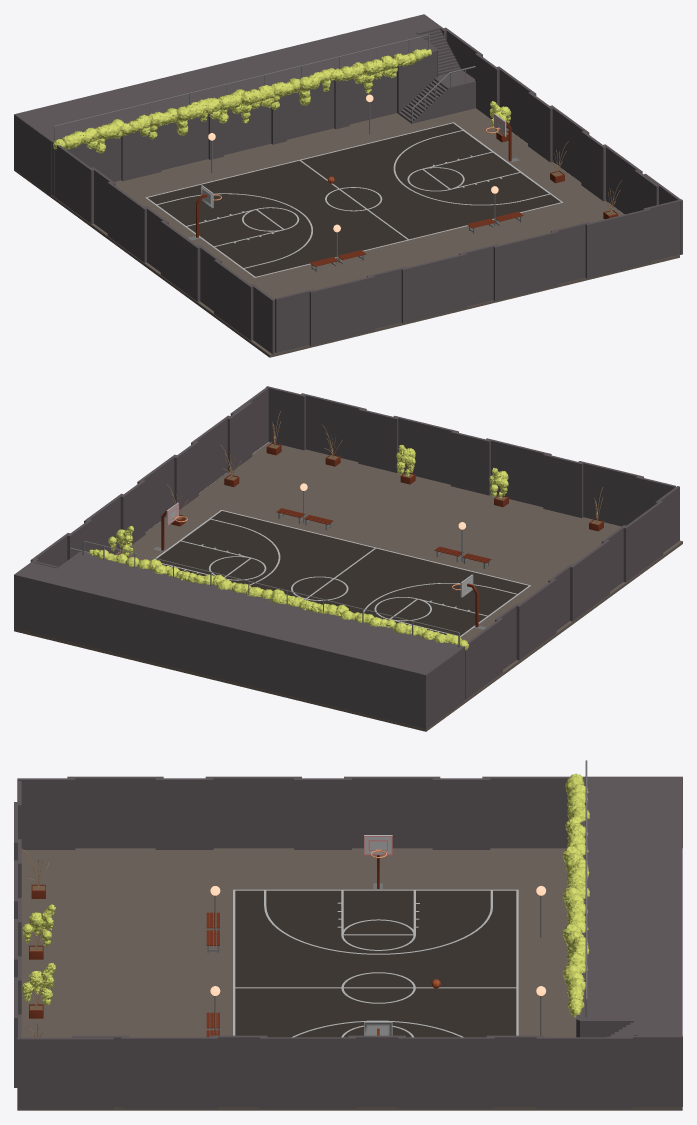
Rendered from Baseball.fbx.
3 views of the same model, one above another, from view 1: azimuth 30°, elevation 25°; view 2: azimuth 150°, elevation 25°; view 3: azimuth 270°, elevation 25° (orthographic). The views are drawn at different scales.
Visible parts, largest first — view 1: Cube_1_4_3, Sweep_5, Cube_1_4_2, Cube_1_3_2, Sweep_16, Cylinder_6; view 2: Cube_1_4_3, Sweep_5, Sweep_16, Cube_1_4_2, Cube_1_3_2, Cylinder_6; view 3: Cube_1_4_3, Sweep_5, Cube_1_4_2, Sweep_16, Cube_1_3_2, Cube_1_6, Cylinder_6.
Part boxes in pixels (x1,y1,x2,y2): Cube_1_4_3: [14, 20, 682, 354]; Sweep_5: [14, 108, 679, 357]; Cube_1_4_2: [398, 14, 475, 123]; Cube_1_3_2: [208, 94, 523, 272]; Sweep_16: [489, 101, 621, 219]; Cylinder_6: [54, 34, 429, 140]; Cube_1_4_3: [30, 386, 679, 729]; Sweep_5: [14, 442, 682, 731]; Sweep_16: [108, 411, 603, 557]; Cube_1_4_2: [14, 547, 89, 634]; Cube_1_3_2: [276, 483, 491, 568]; Cylinder_6: [82, 541, 459, 647]; Cube_1_4_3: [14, 773, 682, 1109]; Sweep_5: [17, 848, 682, 1110]; Cube_1_4_2: [542, 1020, 682, 1106]; Sweep_16: [22, 849, 55, 1037]; Cube_1_3_2: [206, 886, 545, 1037]; Cube_1_6: [364, 835, 392, 889]; Cylinder_6: [585, 760, 587, 1016].
Bounding box in the file's own units: 3233 × 529 × 3470.
15 materials, 1 textured.
